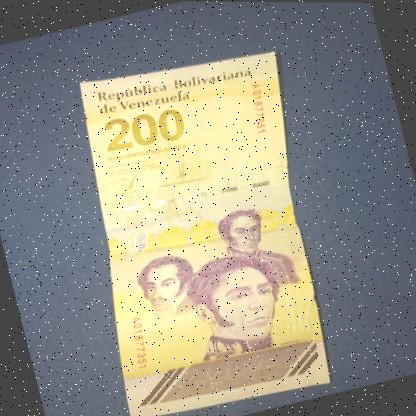two_hundred-front-vef: (49, 33, 356, 416)
